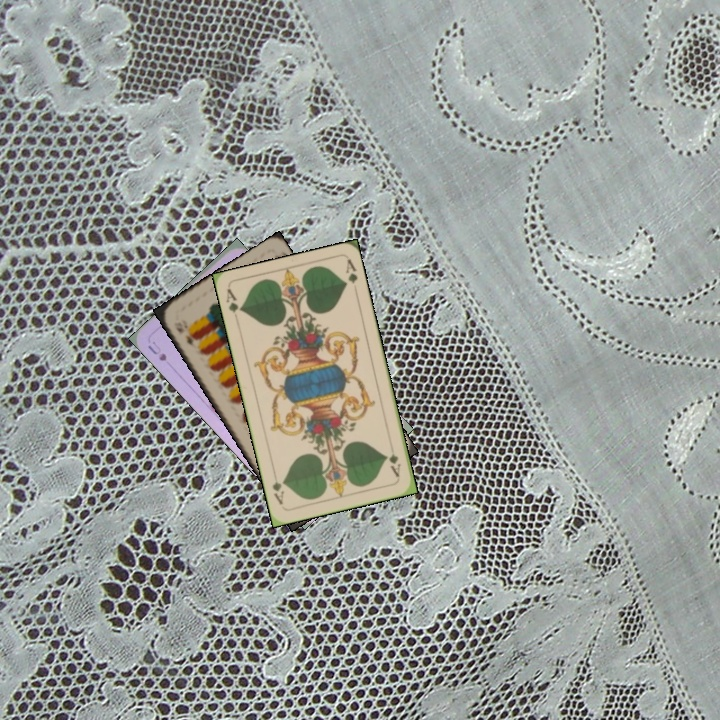E10: (172, 323, 201, 350)
GA: (385, 440, 403, 480), (222, 285, 245, 315)
SU: (144, 337, 169, 364)
